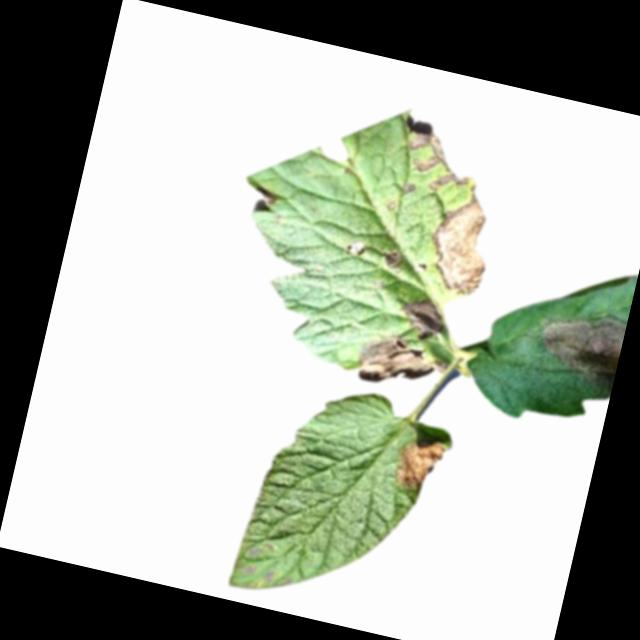Late_blight: (420, 187, 501, 300), (530, 305, 626, 391), (354, 331, 449, 400), (401, 128, 480, 198), (391, 434, 446, 495), (395, 290, 452, 345), (381, 245, 407, 273), (254, 183, 278, 207)
